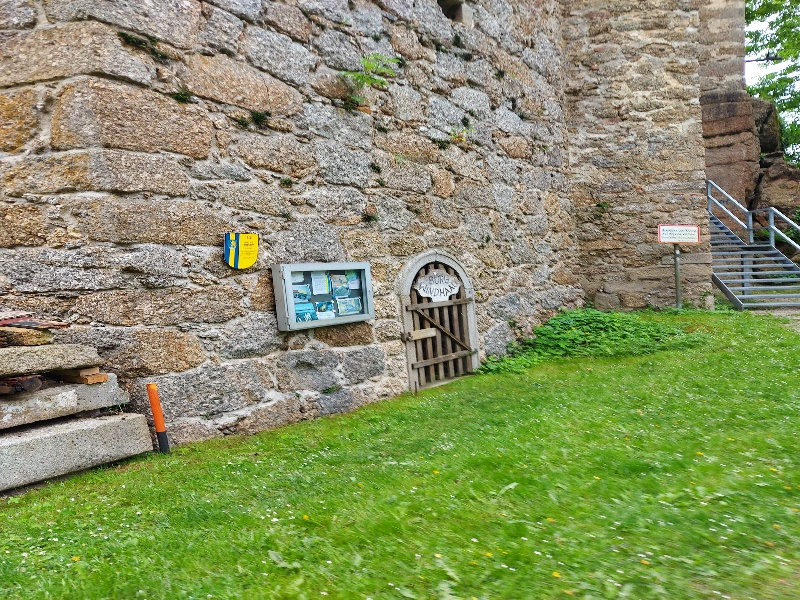dungeon: (385, 241, 486, 392)
